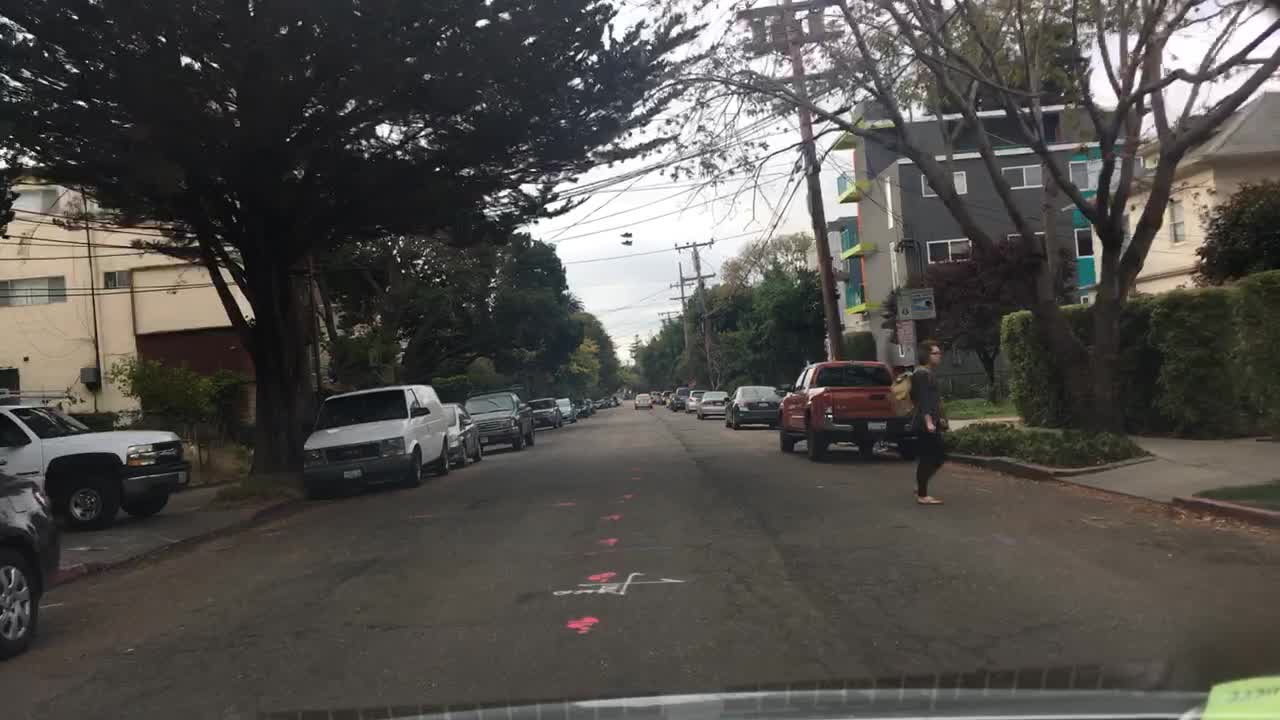car: (0, 382, 193, 526), (298, 382, 450, 503), (1, 457, 61, 663), (460, 389, 539, 451), (437, 401, 486, 464), (719, 384, 783, 428), (526, 395, 565, 430), (695, 387, 730, 419), (552, 395, 578, 424), (682, 387, 707, 415), (670, 384, 689, 407), (571, 395, 592, 415), (632, 390, 652, 407), (646, 389, 664, 407), (658, 392, 676, 410), (591, 395, 609, 410), (609, 393, 621, 407)
person: (889, 340, 949, 508)
traffic sign: (897, 285, 935, 318), (895, 321, 915, 364)
truck: (774, 356, 904, 457)
